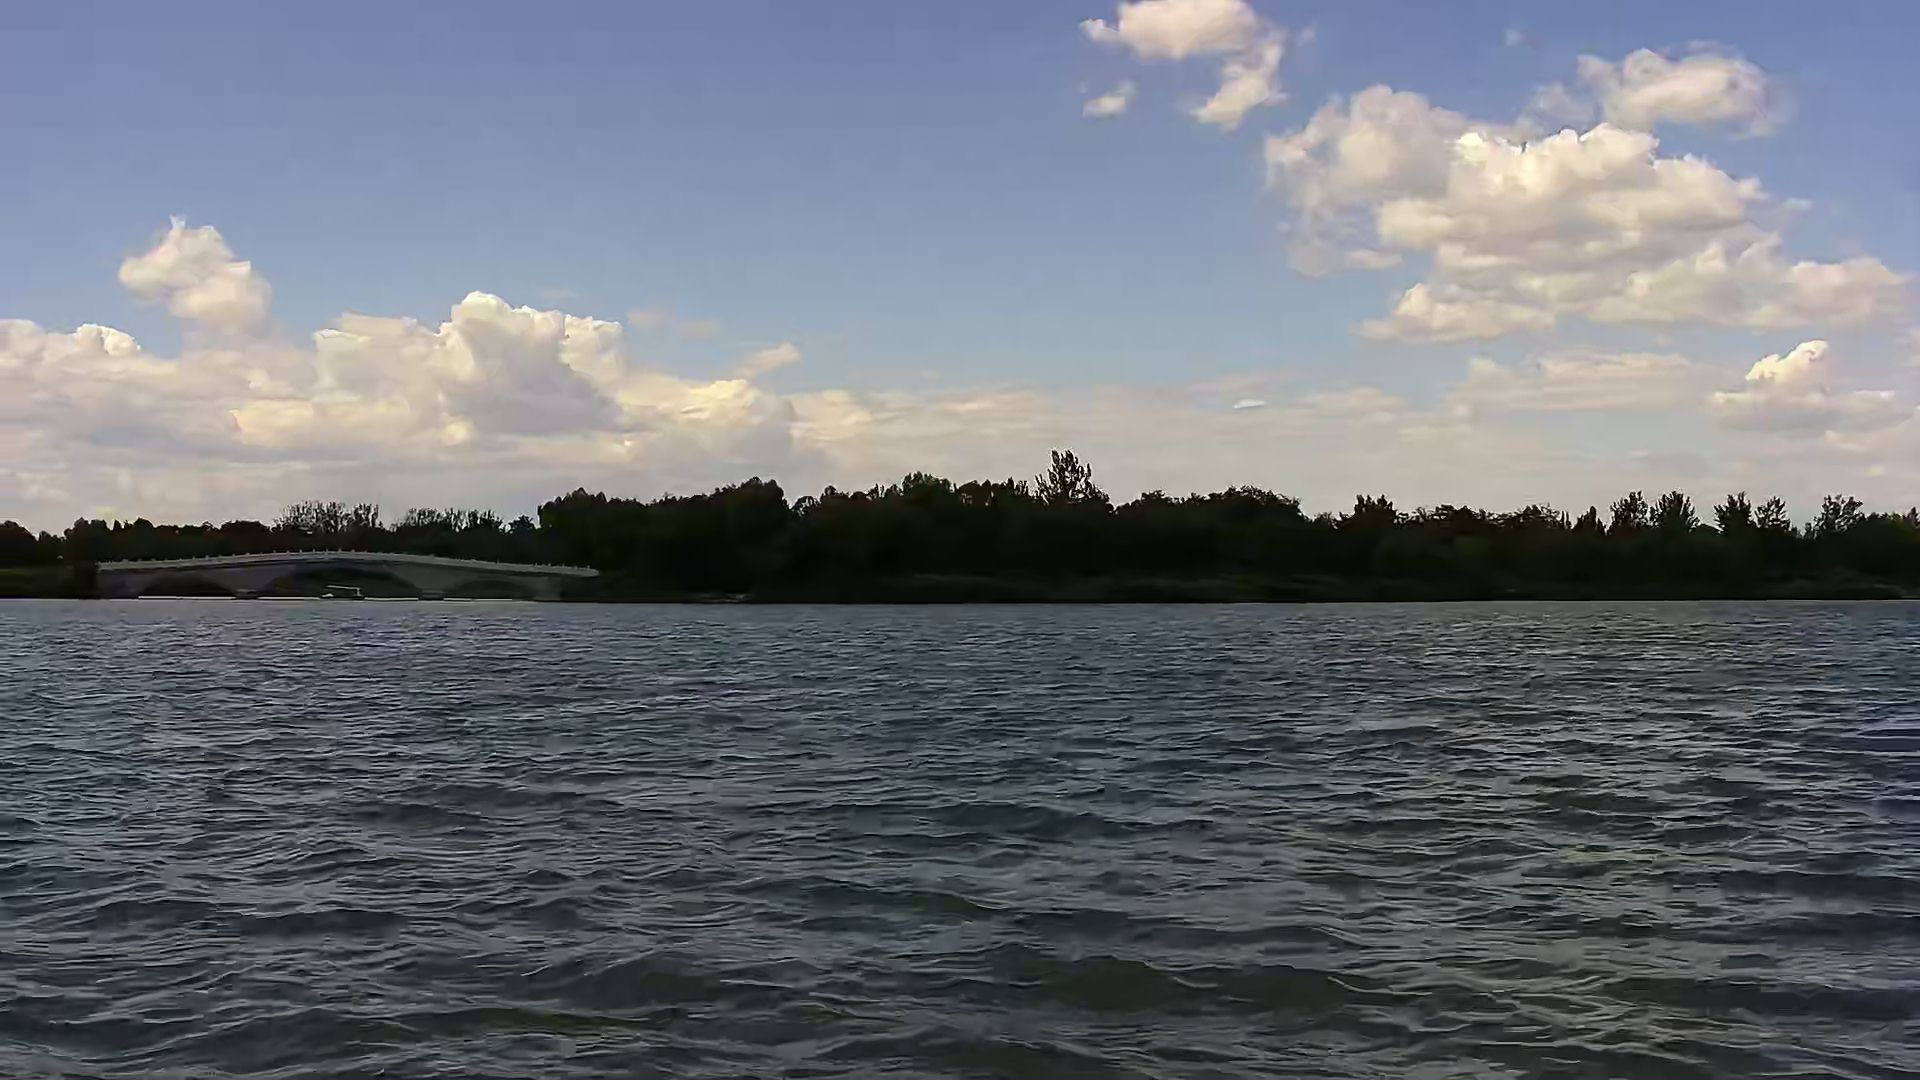boat: (320, 578, 372, 604)
bridge: (90, 549, 600, 604)
